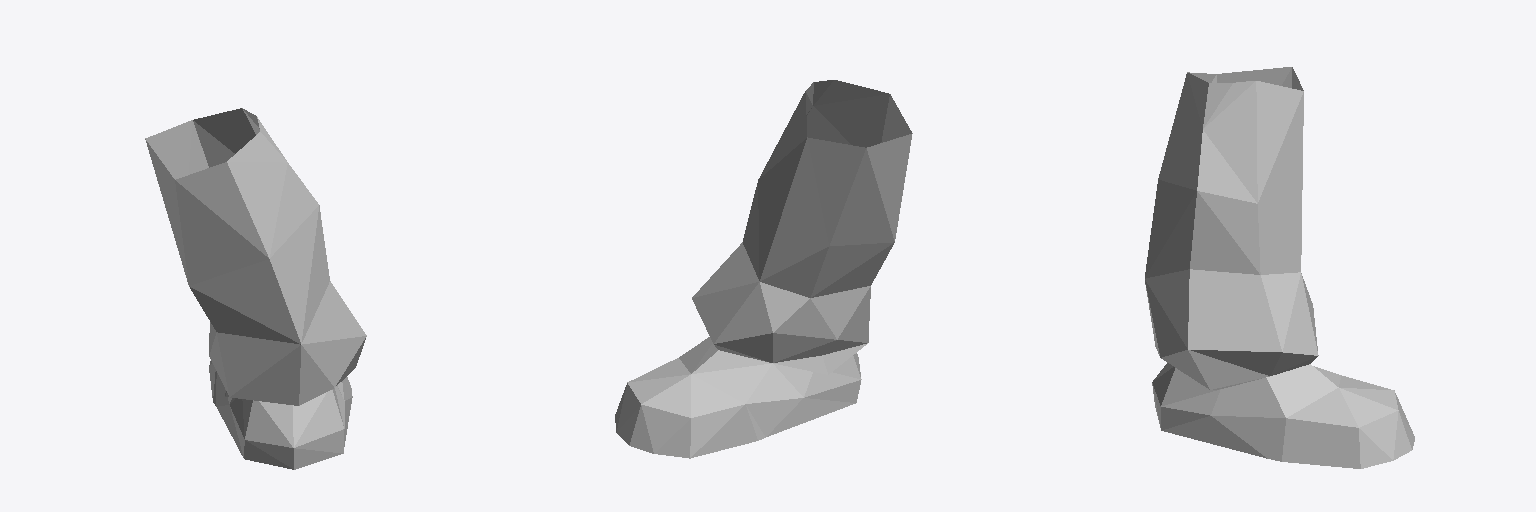
File: zDerEntre.obj
The picture shows the model from 3 angles: view 1: azimuth 30°, elevation 25°; view 2: azimuth 150°, elevation 25°; view 3: azimuth 270°, elevation 25°; orthographic projection.
Parts seen in each view (by area): view 1: Entrenador.005_trainer_body; view 2: Entrenador.005_trainer_body; view 3: Entrenador.005_trainer_body.
Boxes of the visible parts, box(x1,y1,x2,y2) form: Entrenador.005_trainer_body: box(145, 108, 366, 469); Entrenador.005_trainer_body: box(615, 80, 912, 458); Entrenador.005_trainer_body: box(1145, 67, 1414, 468).
Bounding box in the file's own units: 9.77 × 13.48 × 10.16.